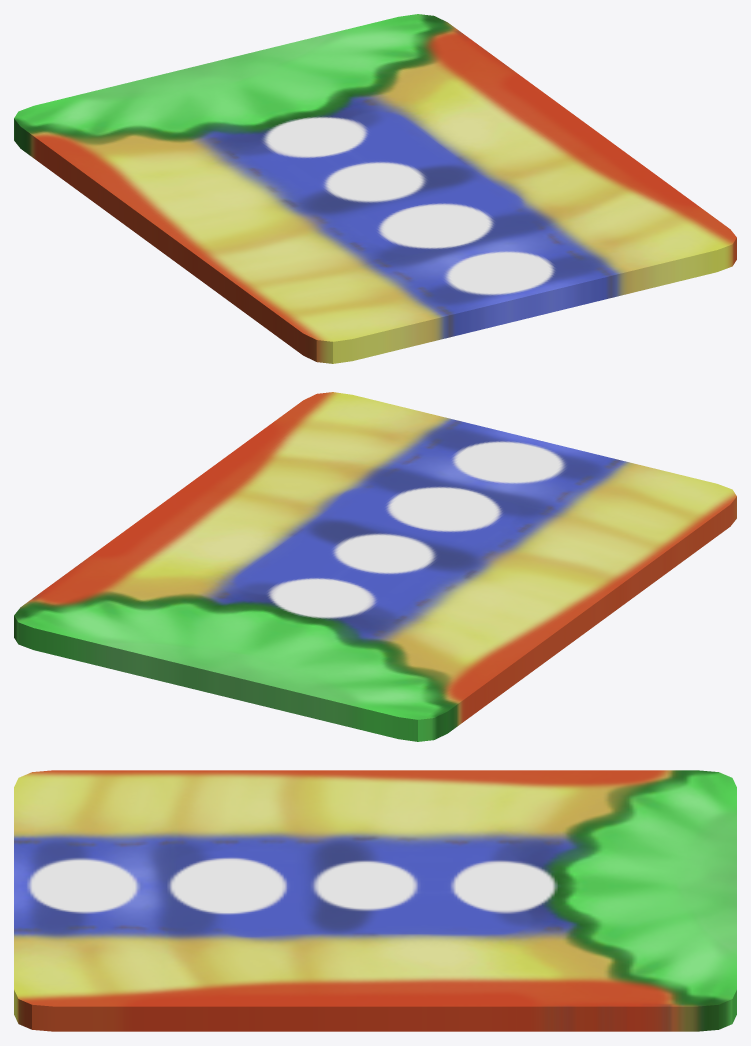
Rendered from Doblada-3.FBX.
The picture shows the model from 3 angles, top to bottom: view 1: azimuth 30°, elevation 25°; view 2: azimuth 150°, elevation 25°; view 3: azimuth 270°, elevation 25°; orthographic projection. The views are drawn at different scales.
Parts seen in each view (by area): view 1: Box001; view 2: Box001; view 3: Box001.
Part boxes in pixels (left/top/right/bottom): Box001: left=14, top=14, right=736, bottom=363; Box001: left=14, top=392, right=736, bottom=741; Box001: left=14, top=770, right=736, bottom=1031.
Size of the model in its own units: 52.85 by 68.3 by 2.62.
